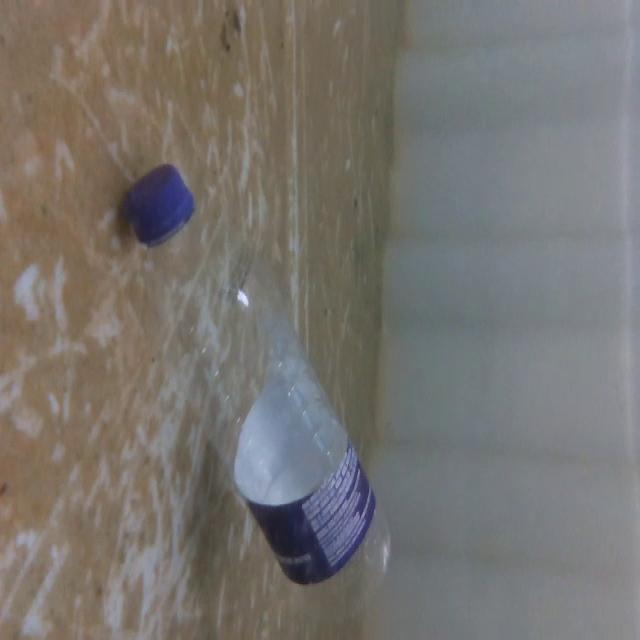plastic bottle: (122, 163, 394, 609)
